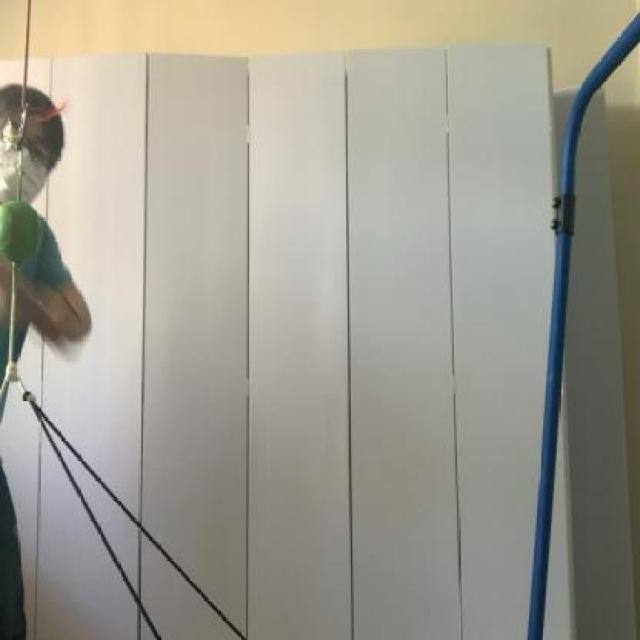baseball: (0, 186, 46, 274)
